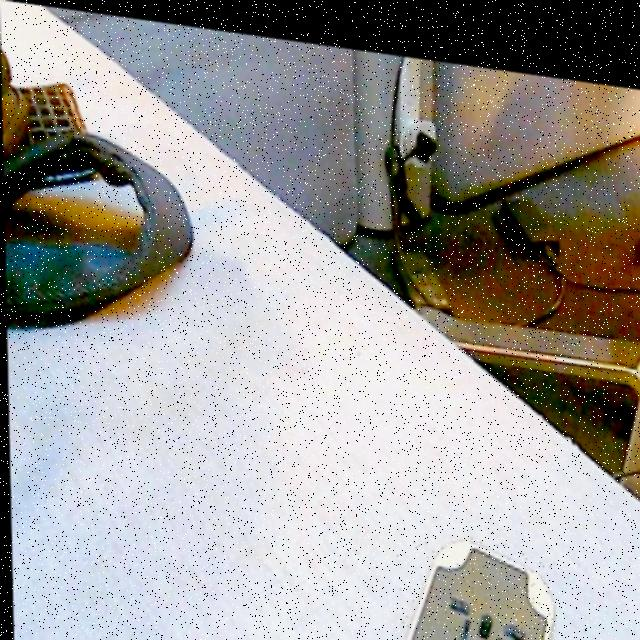adapter: (392, 515, 558, 640)
